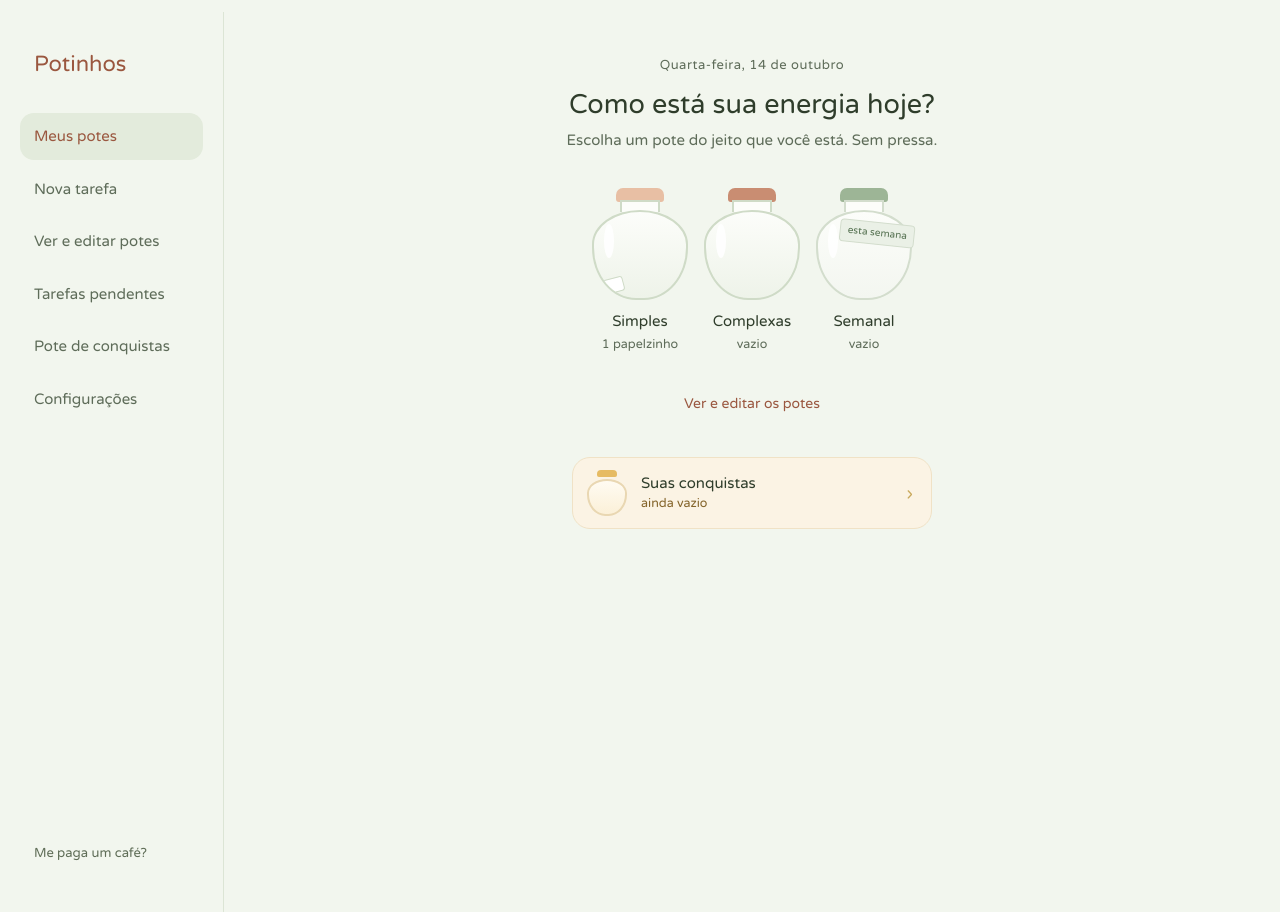
Scenario: Return › keeps the slip as pending
The width and height of the screenshot is (1280, 912).
Expected: the heading "Como está sua energia hoje?" is shown, [569,88,935,120]
Click the button with aria-label "Pote ". click: coordinates (640, 271)
box: [592,188,688,355]
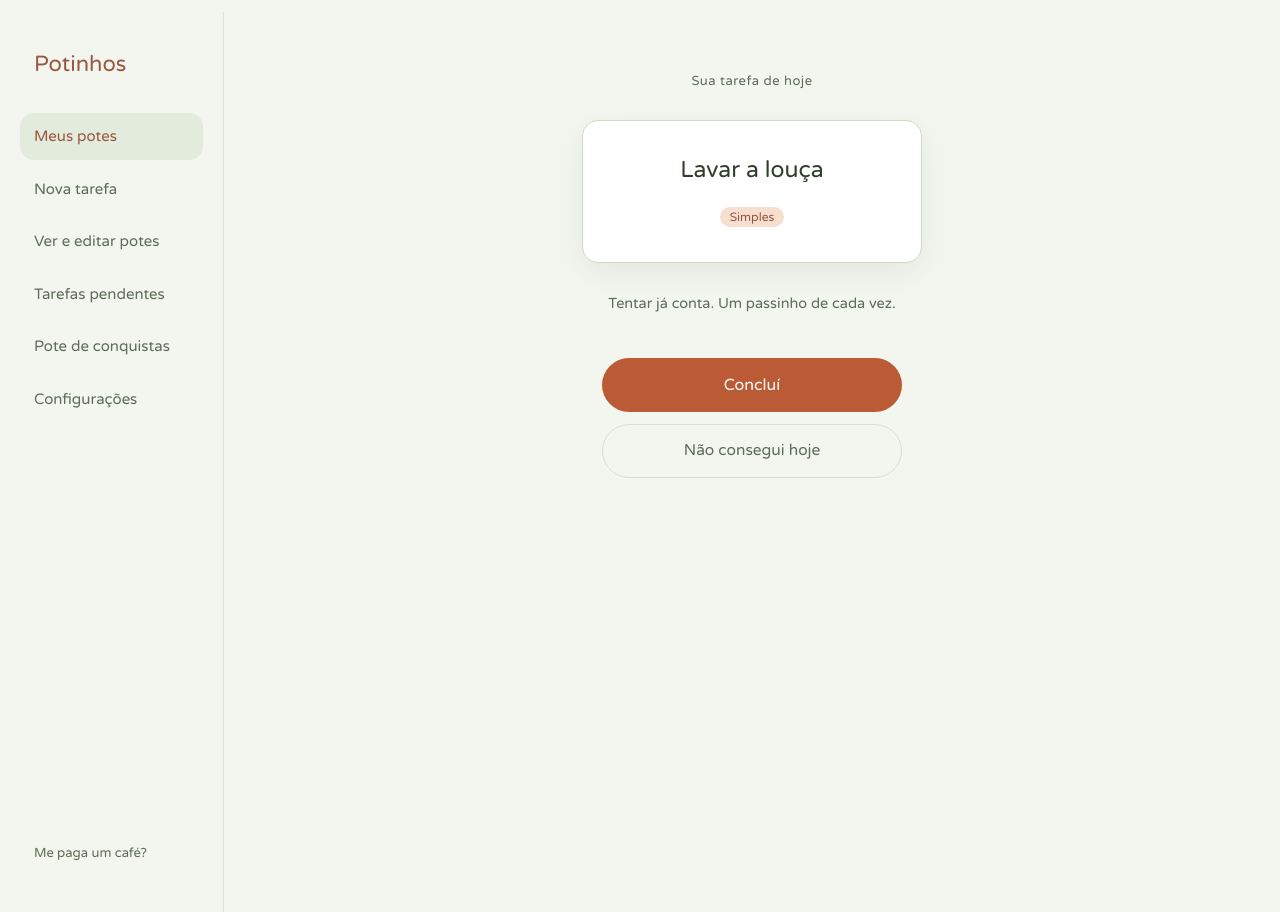
Result: the heading "Sua tarefa de hoje" is shown at [691,73,812,89]
Click the button "Não consegui hoje". click: coordinates (752, 451)
box: [602,424,902,478]
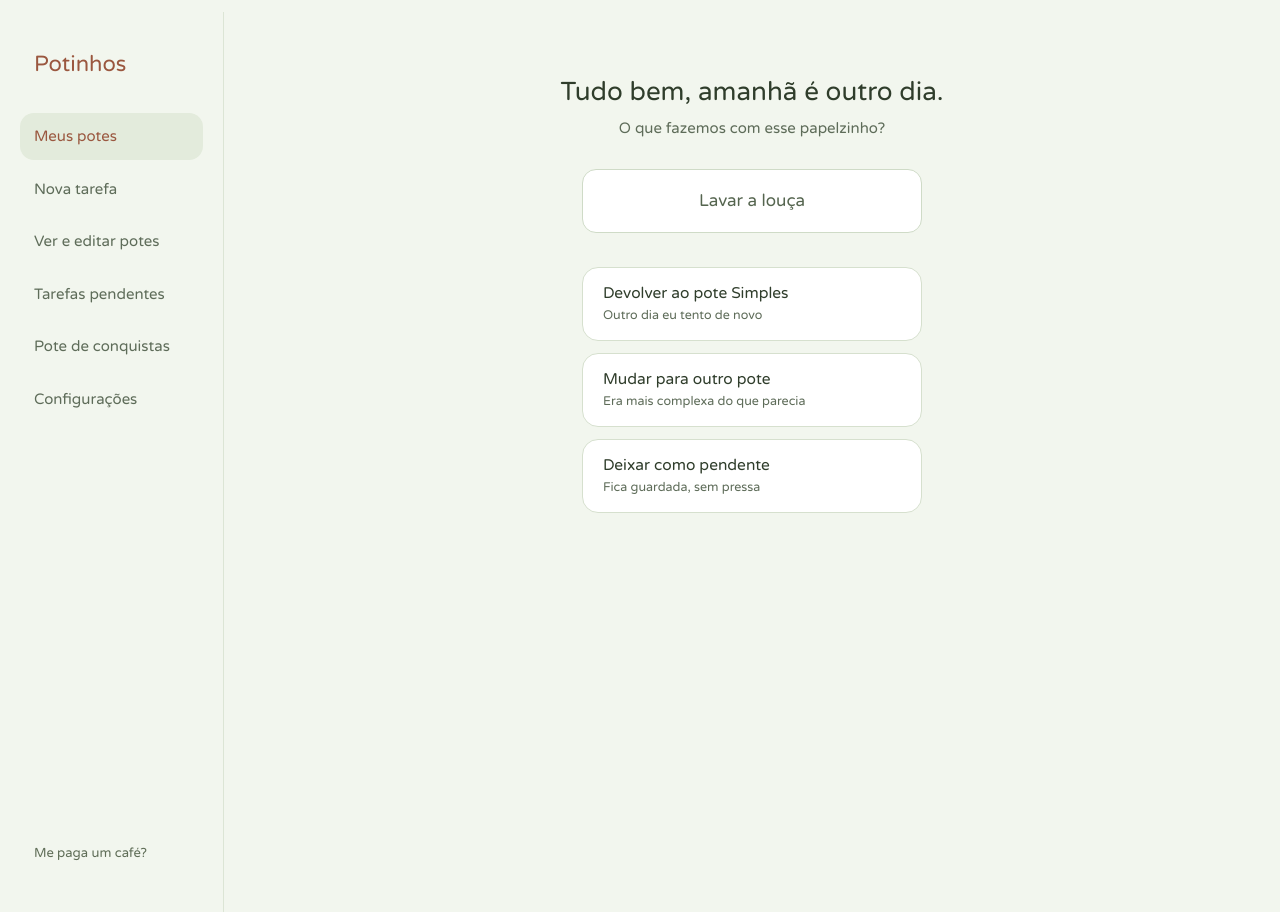
Click the button "Deixar como pendente Fica guardada, sem pressa". click: coordinates (752, 476)
box: [582,438,922,512]
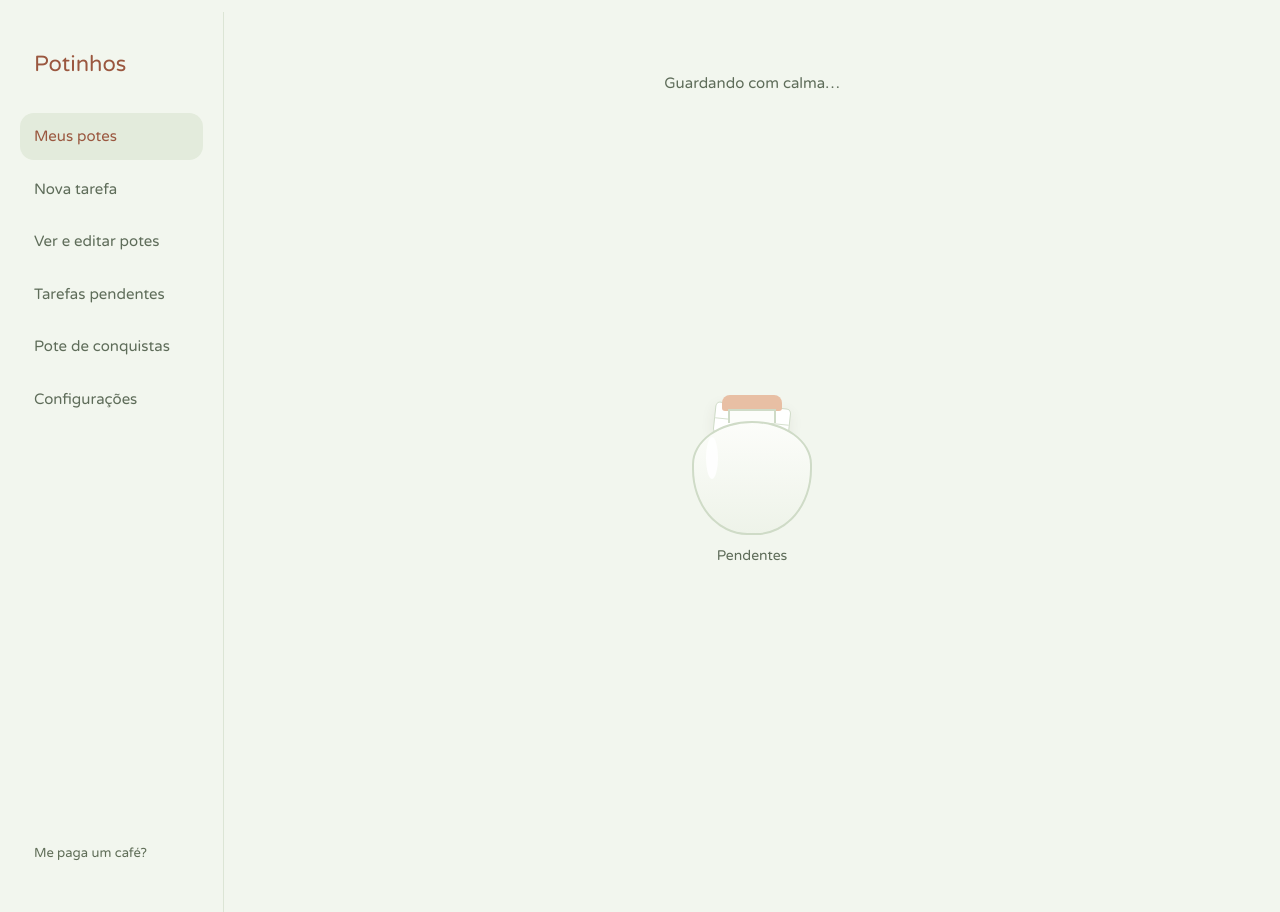
Result: the text "Guardando com calma…" is shown at [664,74,840,92]
Result: the text "Pendentes" is shown at [717,546,787,564]
